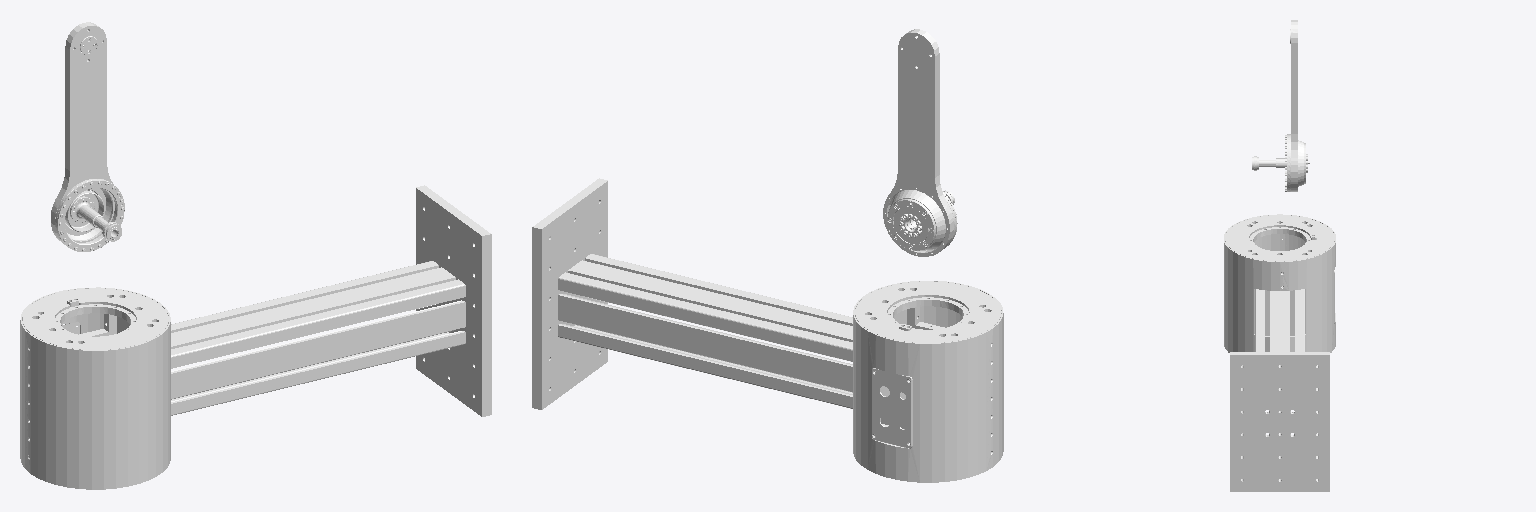
URDF robot description (HJBUT):
<?xml version="1.0" encoding="utf-8"?>
<!-- This URDF was automatically created by SolidWorks to URDF Exporter! Originally created by [author] ([email redacted]) 
     Commit Version: 1.6.0-4-g7f85cfe  Build Version: 1.6.7995.38578
     For more information, please see http://wiki.ros.org/sw_urdf_exporter -->
<robot
  name="HJBUT">
  <link
    name="base_link">
    <visual>
      <origin
        xyz="0 0 0"
        rpy="0 0 0" />
      <geometry>
        <mesh
          filename="base_link.STL" />
      </geometry>
      <material
        name="">
        <color
          rgba="1 1 1 1" />
      </material>
    </visual>
    <collision>
      <origin
        xyz="0 0 0"
        rpy="0 0 0" />
      <geometry>
        <mesh
          filename="base_link.STL" />
      </geometry>
    </collision>
  </link>
  <link
    name="link1">
    <inertial>
      <origin
        xyz="0.160918 -0.000015 -0.017888"
        rpy="0 0 0" />
      <mass
        value="3.527" />
      <inertia
        ixx="0.315591824016712"
        ixy="-0.0357991195031827"
        ixz="-0.224419290508745"
        iyy="0.608728022142769"
        iyz="-0.0424220871654391"
        izz="0.339344724690997" />
    </inertial>
    <visual>
      <origin
        xyz="0 0 0"
        rpy="0 0 0" />
      <geometry>
        <mesh
          filename="link1.STL" />
      </geometry>
      <material
        name="">
        <color
          rgba="1 1 1 1" />
      </material>
    </visual>
    <collision>
      <origin
        xyz="0 0 0"
        rpy="0 0 0" />
      <geometry>
        <mesh
          filename="link1.STL" />
      </geometry>
    </collision>
  </link>
  <joint
    name="joint1"
    type="continuous">
    <origin
      xyz="0 0 0"
      rpy="1.5707963267949 -1.5707963267949 3.1415926" />
    <parent
      link="base_link" />
    <child
      link="link1" />
    <axis
      xyz="0 0 1" />
      <hardware id="0" type="driver">
            <limit lower="-6.28" upper="6.28"  vel="3.0" acc="10.0" jerk="150.0" effort="30.0"/>
            <transform ratio="1.0" offset_pos_cnt="0" cnt_per_unit="20860.7570568" torque_per_unit="1.0"
                       user_unit_name="rad"/>
             <inputs name="Inputs">
                <status_word>Statusword</status_word>
                <position_actual_value>Position actual value</position_actual_value>
                <velocity_actual_value>Velocity actual value</velocity_actual_value>
                <torque_actual_value>Torque actual value</torque_actual_value>
                <load_torque_value>Analog Input 1</load_torque_value>
                <secondary_position_value>Auxiliary position actual value</secondary_position_value>
                <!-- <secondary_velocity_value>Secondary velocity value</secondary_velocity_value> -->
            </inputs>
            <outputs name="Outputs">
                <control_word>Controlword</control_word>
                <mode_of_operation>Modes of operation</mode_of_operation>
                <target_position>Target position</target_position>
                <target_velocity>Target velocity</target_velocity>
                <target_torque>Target torque</target_torque>
            </outputs>        
        </hardware>
  </joint>
  <link
    name="link_2">
    <inertial>
      <origin
        xyz="0.086844 -0.000004 -0.004985"
        rpy="0 0 0" />
      <mass
        value="1.299" />
      <inertia
        ixx="0.315591824016712"
        ixy="-0.0357991195031827"
        ixz="-0.224419290508745"
        iyy="0.608728022142769"
        iyz="-0.0424220871654391"
        izz="0.339344724690997" />
    </inertial>
    <visual>
      <origin
        xyz="0 0 0"
        rpy="0 0 0" />
      <geometry>
        <mesh
          filename="link2.STL" />
      </geometry>
      <material
        name="">
        <color
          rgba="1 1 1 1" />
      </material>
    </visual>
    <collision>
      <origin
        xyz="0 0 0"
        rpy="0 0 0" />
      <geometry>
        <mesh
          filename="link2.STL" />
      </geometry>
    </collision>
  </link>
  <joint
    name="joint2"
    type="continuous">
    <origin
      xyz="0.279999999666084 0 0.0355"
      rpy="0 0 0" />
    <parent
      link="link1" />
    <child
      link="link_2" />
    <axis    xyz="0 0 1" />
    <hardware id="1" type="driver">
            <limit lower="-6.28" upper="6.28" vel="3.0" acc="10.0" jerk="150.0" effort="30.0" />
            <transform ratio="1.0" offset_pos_cnt="0" cnt_per_unit="20860.7570568" torque_per_unit="1.0" user_unit_name="rad"/>
            <inputs name="Inputs">
                <status_word>Statusword</status_word>
                <position_actual_value>Position actual value</position_actual_value>
                <velocity_actual_value>Velocity actual value</velocity_actual_value>
                <torque_actual_value>Torque actual value</torque_actual_value>
                <load_torque_value>Analog Input 1</load_torque_value>
                <secondary_position_value>Auxiliary position actual value</secondary_position_value>
                <!-- <secondary_velocity_value>Secondary velocity value</secondary_velocity_value> -->
            </inputs>
            <outputs name="Outputs">
                <control_word>Controlword</control_word>
                <mode_of_operation>Modes of operation</mode_of_operation>
                <target_position>Target position</target_position>
                <target_velocity>Target velocity</target_velocity>
                <target_torque>Target torque</target_torque>
            </outputs>  
        </hardware>


   
  </joint>
  <link
    name="link_3">
  </link>
  <joint
    name="joint3"
    type="fixed">
    <origin
      xyz="0.28 0 0"
      rpy="0 0 0" />
    <parent
      link="link_2" />
    <child
      link="link_3" />
    

   
  </joint>
</robot>

--- What the picture shows (computed from the rendered views, not written in the file) ---
3 views of the same robot in one strip: view 1: azimuth 30°, elevation 25°; view 2: azimuth 150°, elevation 25°; view 3: azimuth 270°, elevation 25° (orthographic).
Model HJBUT with 4 links and 3 joints (2 continuous, 1 fixed), rooted at base_link, posed every joint at zero.
Visible links, largest first — view 1: base_link, link_2; view 2: base_link, link_2; view 3: base_link, link_2.
Link boxes in pixels (box(x1,y1,x2,y2)): base_link: box(20, 185, 491, 489); link_2: box(51, 22, 124, 251); base_link: box(532, 178, 1003, 482); link_2: box(883, 29, 957, 256); base_link: box(1224, 214, 1335, 491); link_2: box(1252, 20, 1309, 191).
Size in the robot's own frame: 0.7415 by 0.2252 by 0.742 metres.
2 mesh visuals loaded from 3 distinct referenced files (2 binary STL); not drawn: 1 (reference not matched to a file when rendering).
